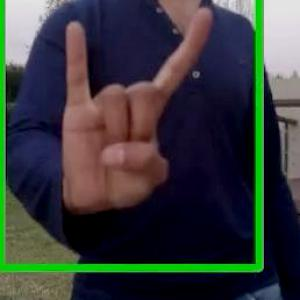takeoff-hand: (54, 0, 222, 237)
